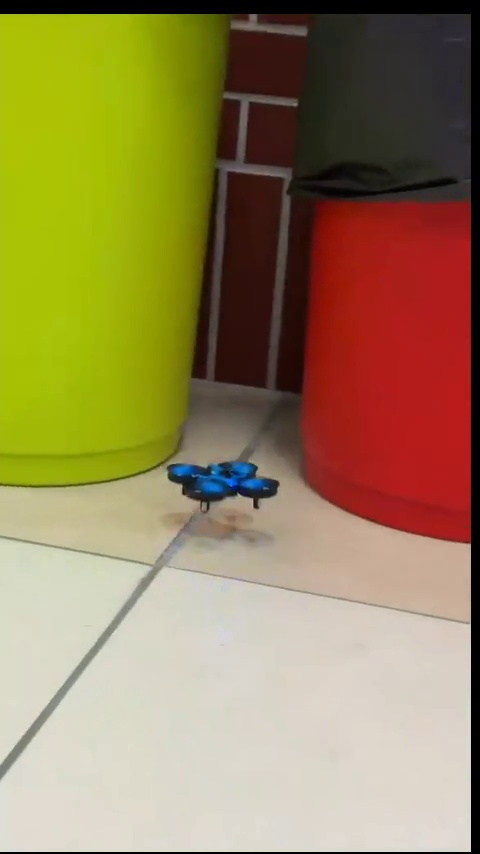drone: (168, 458, 281, 509)
